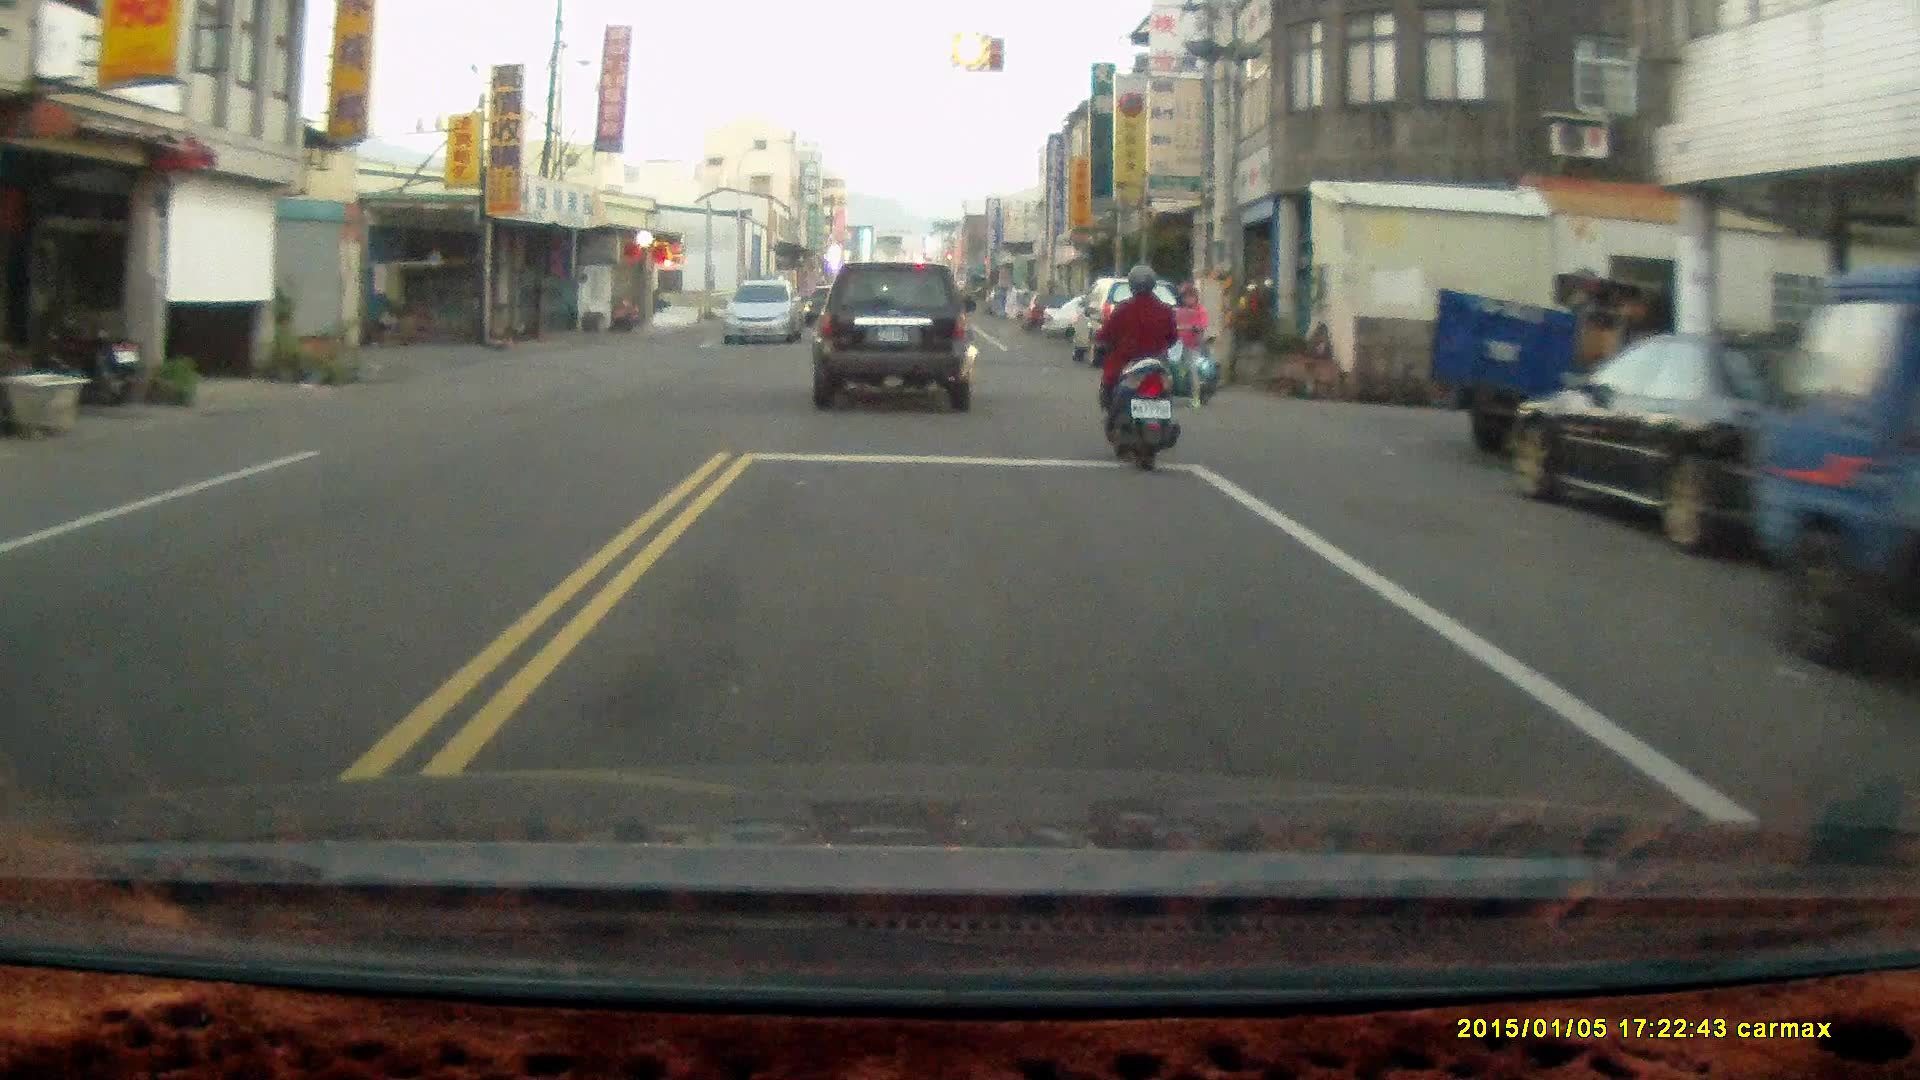rider: (1098, 260, 1178, 475), (1147, 281, 1223, 400)
vehicle: (1505, 329, 1908, 560), (1753, 266, 1920, 695), (1429, 271, 1710, 467), (809, 257, 981, 414), (1074, 278, 1189, 366), (724, 278, 807, 347)
